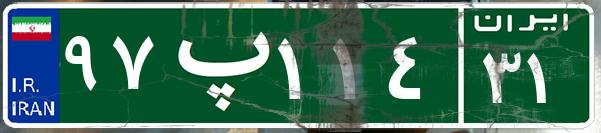1: (273, 28, 330, 110), (330, 28, 385, 110), (525, 38, 570, 115)
3: (475, 38, 525, 113)
4: (385, 28, 445, 110)
7: (110, 28, 158, 105)
9: (57, 26, 110, 107)
پ: (158, 15, 273, 115)
